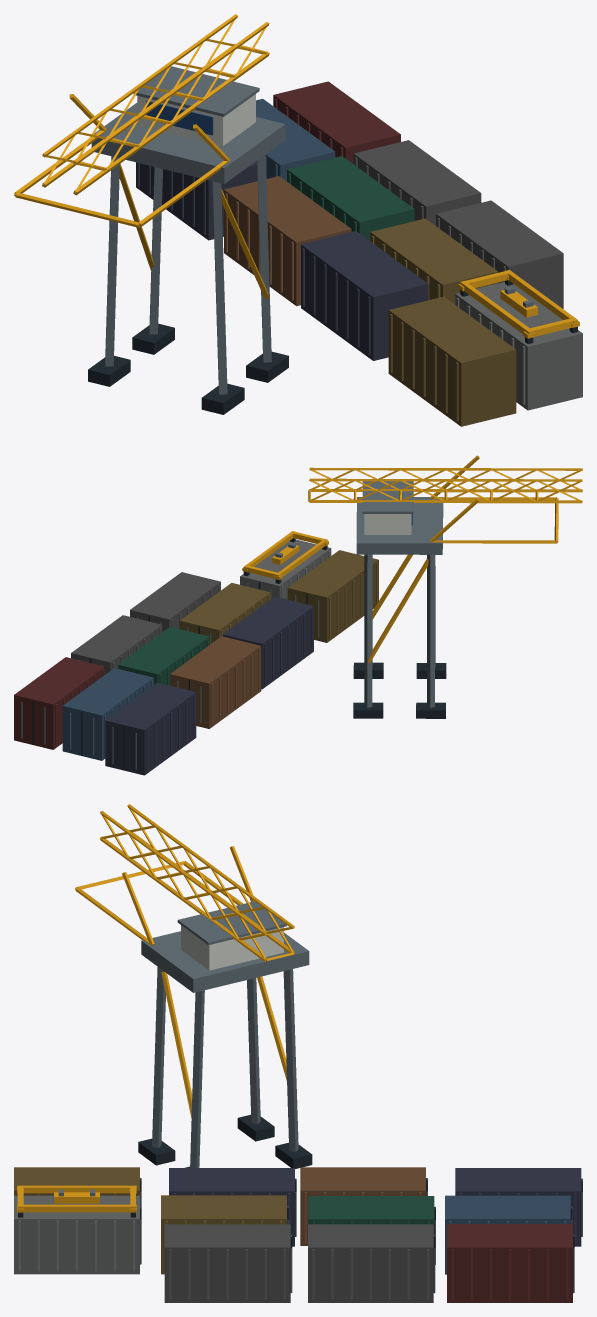
File: SeaportSystem-02-ShipToShoreGantryCrane-01-20Footer-1-07.glb
3 renders of one model, top to bottom at view 1: azimuth 30°, elevation 25°; view 2: azimuth 150°, elevation 25°; view 3: azimuth 270°, elevation 25°, orthographic. The views are drawn at different scales.
Parts seen in each view (by area): view 1: SeaportSystem-02-ShipToShoreGantryCrane-01-20Footer-1-07; view 2: SeaportSystem-02-ShipToShoreGantryCrane-01-20Footer-1-07; view 3: SeaportSystem-02-ShipToShoreGantryCrane-01-20Footer-1-07.
Part boxes in pixels (x1,y1,x2,y2): SeaportSystem-02-ShipToShoreGantryCrane-01-20Footer-1-07: (14,14,582,426); SeaportSystem-02-ShipToShoreGantryCrane-01-20Footer-1-07: (14,455,582,775); SeaportSystem-02-ShipToShoreGantryCrane-01-20Footer-1-07: (14,804,582,1302).
Bounding box in the file's own units: 57.07 × 31.18 × 59.64.
